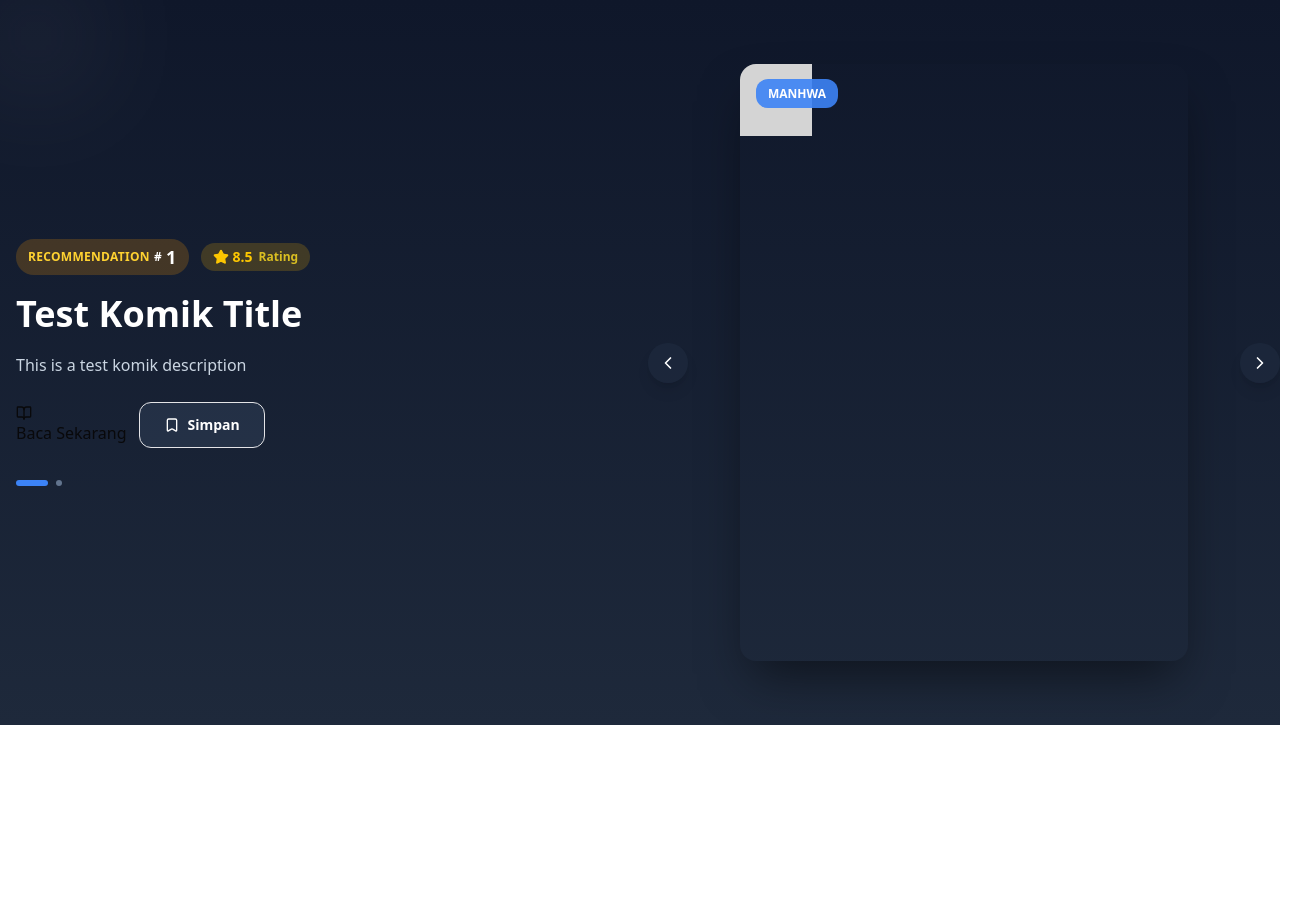
Test: HeroCarousel › Navigation › navigates to next item when next button is clicked
This screenshot has width=1292, height=900.
Click the button named "Next slide" at (1260, 363), box [1240,343,1280,383]
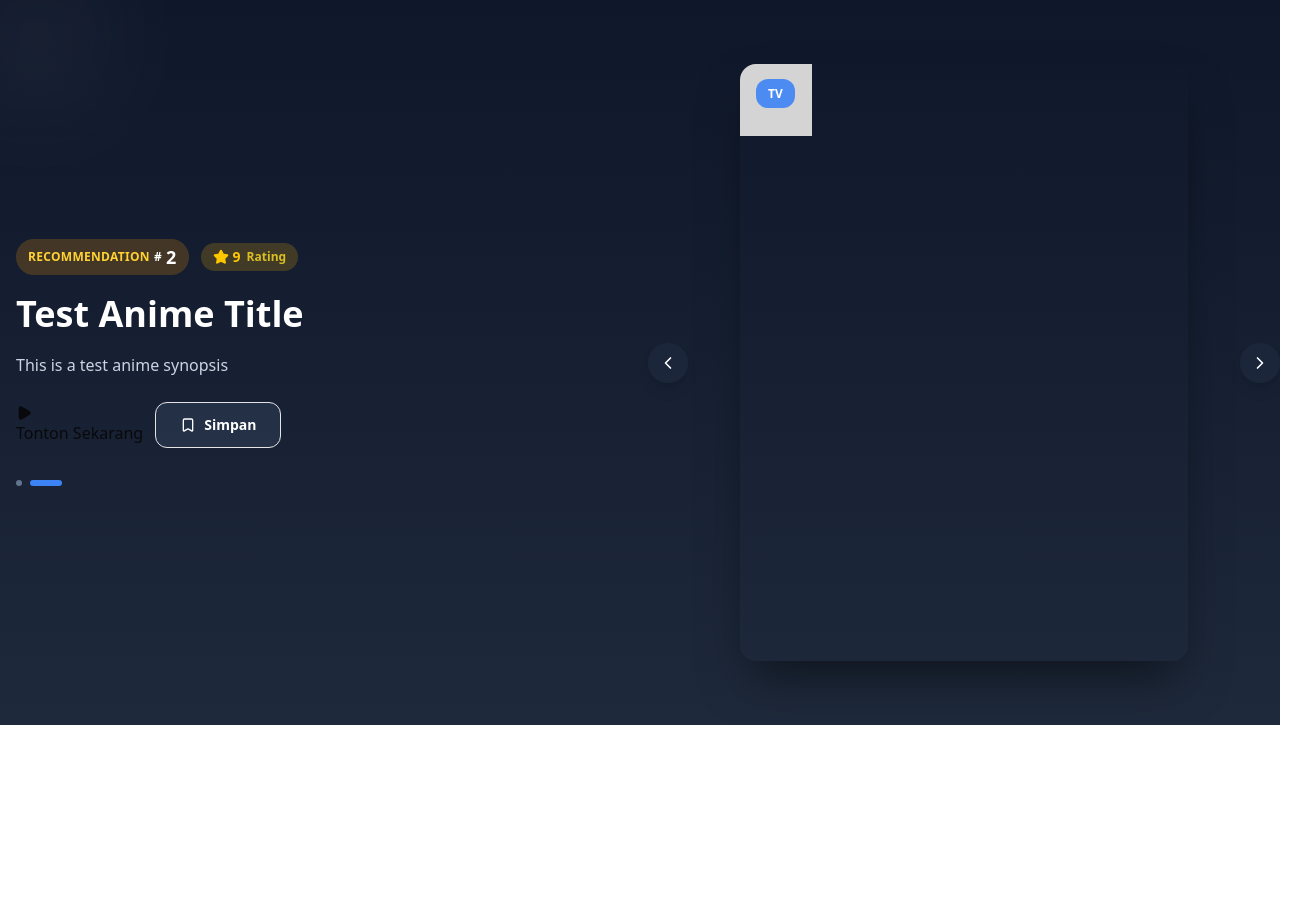
Now the heading "Test Anime Title" is shown, box [16,289,304,338]
